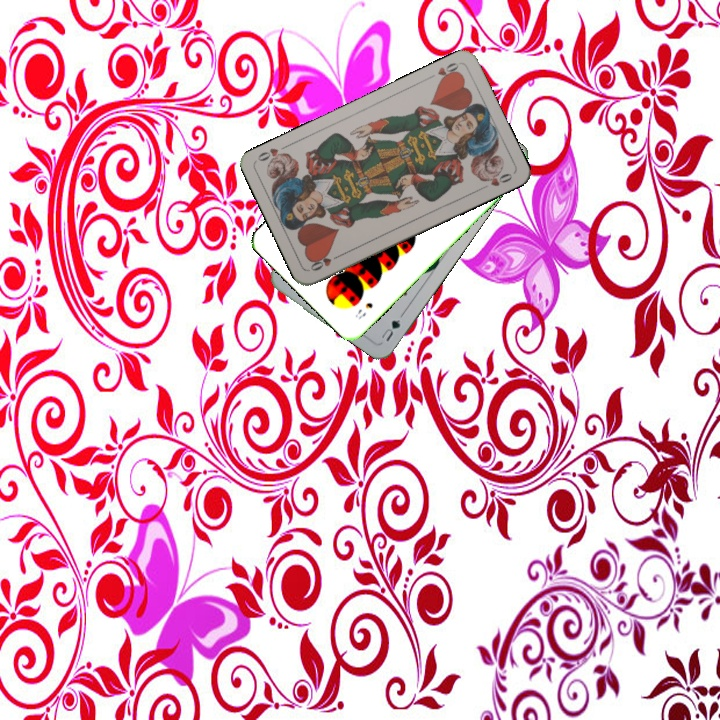GU: (377, 315, 403, 344)
HO: (306, 250, 344, 274), (434, 58, 463, 85)
S8: (351, 299, 375, 322)
